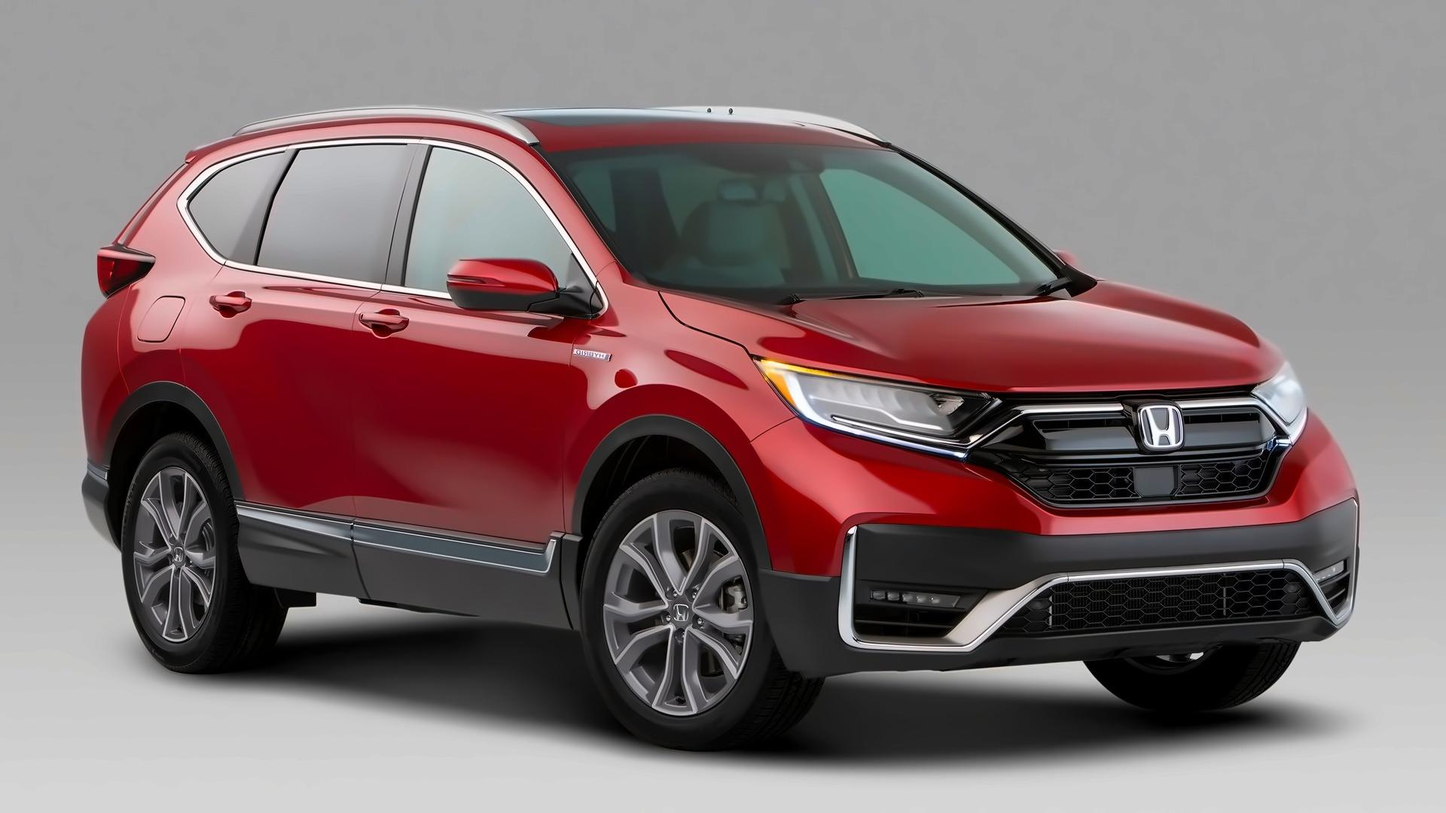Car hood: (654, 281, 1306, 398)
Driver-s door - -F-R-: (352, 111, 575, 557)
Fender - -F-R-: (558, 253, 797, 634)
Fender - -R-R-: (108, 241, 229, 417)
Front bumper: (736, 439, 1376, 689)
Headlight - -L-: (1241, 347, 1321, 453)
Headlight - -R-: (744, 345, 1028, 467)
Passenger-s door - -R-R-: (173, 111, 357, 544)
Rear bumper: (70, 286, 149, 556)
Rear light - -R-: (85, 228, 162, 309)
Side bumper - -R-: (224, 492, 594, 636)
Side mirror - -L-: (1034, 241, 1099, 282)
Side mirror - -R-: (436, 249, 606, 327)
